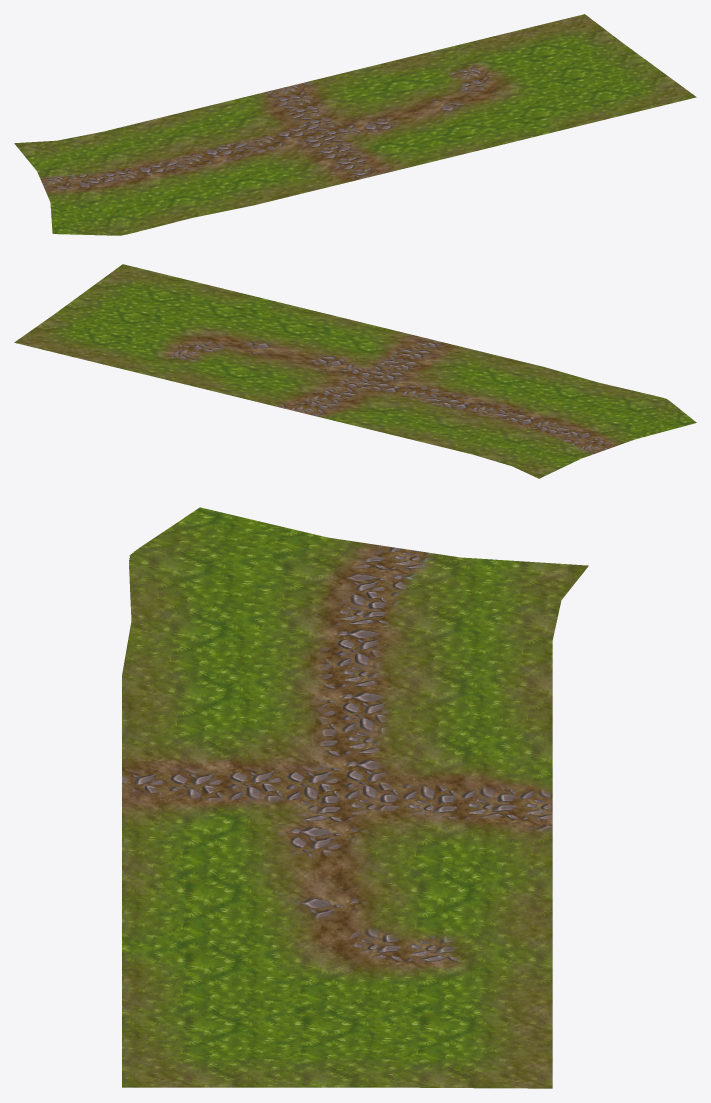
Rendered from 0_Floor_2_Alpha.FBX.
The picture shows the model from 3 angles, top to bottom: view 1: azimuth 30°, elevation 25°; view 2: azimuth 150°, elevation 25°; view 3: azimuth 270°, elevation 25°; orthographic projection. The views are drawn at different scales.
Parts seen in each view (by area): view 1: 0_Floor_2; view 2: 0_Floor_2; view 3: 0_Floor_2.
Part boxes in pixels (x1,y1,x2,y2): 0_Floor_2: (14,14,696,235); 0_Floor_2: (14,264,696,478); 0_Floor_2: (122,507,588,1088).
Size of the model in its own units: 3512 by 5.3 by 1195.
